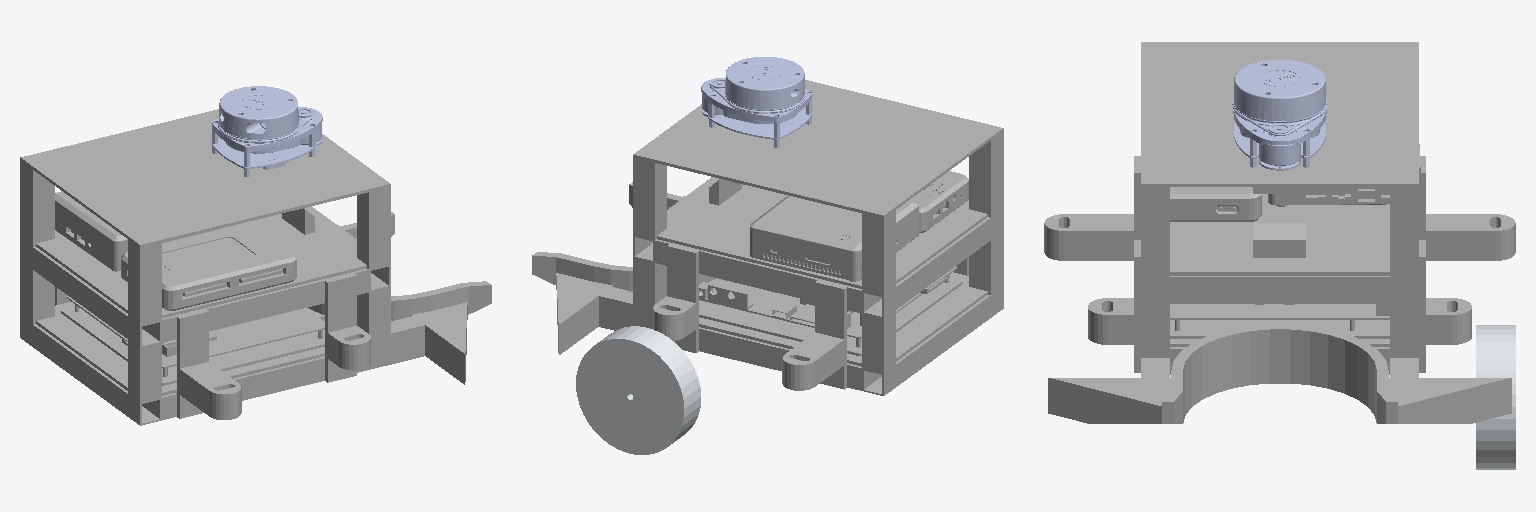
robot.urdf — lide:
<?xml version="1.0" encoding="utf-8"?>
<!-- This URDF was automatically created by SolidWorks to URDF Exporter! Originally created by [author] ([email redacted]) 
     Commit Version: 1.5.1-0-g916b5db  Build Version: 1.5.7152.31018
     For more information, please see http://wiki.ros.org/sw_urdf_exporter -->
<robot
  name="lide">
  <link
    name="base_link">
    <inertial>
      <origin
        xyz="-0.090533 0.0013857 0.048933"
        rpy="0 0 0" />
      <mass
        value="3.0203" />
      <inertia
        ixx="0.0071977"
        ixy="-5.4748E-07"
        ixz="-7.3649E-06"
        iyy="0.005614"
        iyz="-3.0088E-07"
        izz="0.012102" />
    </inertial>
    <visual>
      <origin
        xyz="0 0 0"
        rpy="0 0 0" />
      <geometry>
        <mesh
          filename="package://lide/meshes/base_link.STL" />
      </geometry>
      <material
        name="">
        <color
          rgba="0.75294 0.75294 0.75294 1" />
      </material>
    </visual>
    <collision>
      <origin
        xyz="0 0 0"
        rpy="0 0 0" />
      <geometry>
        <mesh
          filename="package://lide/meshes/base_link.STL" />
      </geometry>
    </collision>
  </link>
  <link
    name="LFS">
    <inertial>
      <origin
        xyz="0.04556 0.0083094 0.0029762"
        rpy="0 0 0" />
      <mass
        value="0.072793" />
      <inertia
        ixx="2.2093E-05"
        ixy="-1.6485E-08"
        ixz="-1.5645E-07"
        iyy="1.6263E-05"
        iyz="2.9641E-09"
        izz="1.8084E-05" />
    </inertial>
    <visual>
      <origin
        xyz="0 0 0"
        rpy="0 0 0" />
      <geometry>
        <mesh
          filename="package://lide/meshes/LFS.STL" />
      </geometry>
      <material
        name="">
        <color
          rgba="0.75294 0.75294 0.75294 1" />
      </material>
    </visual>
    <collision>
      <origin
        xyz="0 0 0"
        rpy="0 0 0" />
      <geometry>
        <mesh
          filename="package://lide/meshes/LFS.STL" />
      </geometry>
    </collision>
  </link>
  <joint
    name="LFS"
    type="fixed">
    <origin
      xyz="-0.021044 0.084404 -0.036503"
      rpy="1.5708 0 1.5708" />
    <parent
      link="base_link" />
    <child
      link="LFS" />
    <axis
      xyz="0 0 0" />
  </joint>
  <link
    name="LFW">
    <inertial>
      <origin
        xyz="0.015 0 1.7347E-18"
        rpy="0 0 0" />
      <mass
        value="0.76708" />
      <inertia
        ixx="0.0011643"
        ixy="4.4576E-22"
        ixz="-1.8299E-20"
        iyy="0.00063966"
        iyz="-1.3553E-20"
        izz="0.00063966" />
    </inertial>
    <visual>
      <origin
        xyz="0 0 0"
        rpy="0 0 0" />
      <geometry>
        <mesh
          filename="package://lide/meshes/LFW.STL" />
      </geometry>
      <material
        name="">
        <color
          rgba="0.89804 0.91765 0.92941 1" />
      </material>
    </visual>
    <collision>
      <origin
        xyz="0 0 0"
        rpy="0 1.5708 0" />
      <geometry>
        <cylinder length="0.03" radius="0.055"/>
      </geometry>
    </collision>
  </link>
  <joint
    name="LFW"
    type="continuous">
    <origin
      xyz="0.063346 -0.006798 0.015044"
      rpy="-1.6264 0 0" />
    <parent
      link="LFS" />
    <child
      link="LFW" />
    <axis
      xyz="1 0 0" />
    <limit
      effort="3.1"
      velocity="7" />
  </joint>
  <link
    name="RFS">
    <inertial>
      <origin
        xyz="-0.019183 -0.0090093 0.052006"
        rpy="0 0 0" />
      <mass
        value="0.072793" />
      <inertia
        ixx="2.2093E-05"
        ixy="-1.6485E-08"
        ixz="1.5645E-07"
        iyy="1.6263E-05"
        iyz="-2.9641E-09"
        izz="1.8084E-05" />
    </inertial>
    <visual>
      <origin
        xyz="0 0 0"
        rpy="0 0 0" />
      <geometry>
        <mesh
          filename="package://lide/meshes/RFS.STL" />
      </geometry>
      <material
        name="">
        <color
          rgba="0.75294 0.75294 0.75294 1" />
      </material>
    </visual>
    <collision>
      <origin
        xyz="0 0 0"
        rpy="0 0 0" />
      <geometry>
        <mesh
          filename="package://lide/meshes/RFS.STL" />
      </geometry>
    </collision>
  </link>
  <joint
    name="RFS"
    type="fixed">
    <origin
      xyz="-0.070073 -0.11078 -0.019216"
      rpy="1.5708 0 1.5708" />
    <parent
      link="base_link" />
    <child
      link="RFS" />
    <axis
      xyz="0 0 0" />
  </joint>
  <link
    name="RFW">
    <inertial>
      <origin
        xyz="-0.015 0 0"
        rpy="0 0 0" />
      <mass
        value="0.76708" />
      <inertia
        ixx="0.0011643"
        ixy="-1.2315E-36"
        ixz="8.6535E-37"
        iyy="0.00063966"
        iyz="8.0046E-39"
        izz="0.00063966" />
    </inertial>
    <visual>
      <origin
        xyz="0 0 0"
        rpy="0 0 0" />
      <geometry>
        <mesh
          filename="package://lide/meshes/RFW.STL" />
      </geometry>
      <material
        name="">
        <color
          rgba="0.89804 0.91765 0.92941 1" />
      </material>
    </visual>
    <collision>
      <origin
        xyz="0 0 0"
        rpy="0 1.5708 0" />
      <geometry>
        <cylinder length="0.03" radius="0.055"/>
      </geometry>
    </collision>
  </link>
  <joint
    name="RFW"
    type="continuous">
    <origin
      xyz="-0.036969 -0.024084 0.064073"
      rpy="0 0 0" />
    <parent
      link="RFS" />
    <child
      link="RFW" />
    <axis
      xyz="1 0 0" />
    <limit
      effort="3.1"
      velocity="7" />
  </joint>
  <link
    name="LBS">
    <inertial>
      <origin
        xyz="-4.7988E-10 -0.023473 -1.1682E-09"
        rpy="0 0 0" />
      <mass
        value="0.083536" />
      <inertia
        ixx="7.7297E-05"
        ixy="-8.6048E-13"
        ixz="1.4059E-13"
        iyy="5.1382E-05"
        iyz="-5.0656E-12"
        izz="7.7395E-05" />
    </inertial>
    <visual>
      <origin
        xyz="0 0 0"
        rpy="0 0 0" />
      <geometry>
        <mesh
          filename="package://lide/meshes/LBS.STL" />
      </geometry>
      <material
        name="">
        <color
          rgba="0.89804 0.91765 0.92941 1" />
      </material>
    </visual>
    <collision>
      <origin
        xyz="0 0 0"
        rpy="0 0 0" />
      <geometry>
        <mesh
          filename="package://lide/meshes/LBS.STL" />
      </geometry>
    </collision>
  </link>
  <joint
    name="LBS"
    type="fixed">
    <origin
      xyz="-0.169 0.16275 -0.012562"
      rpy="1.5708 0 1.5708" />
    <parent
      link="base_link" />
    <child
      link="LBS" />
    <axis
      xyz="0 0 0" />
  </joint>
  <link
    name="LBW">
    <inertial>
      <origin
        xyz="0 -1.2212E-15 0"
        rpy="0 0 0" />
      <mass
        value="0.2991" />
      <inertia
        ixx="0.00010713"
        ixy="-7.7155E-22"
        ixz="-6.5618E-22"
        iyy="0.00010983"
        iyz="-8.6323E-20"
        izz="0.00010713" />
    </inertial>
    <visual>
      <origin
        xyz="0 0 0"
        rpy="0 0 0" />
      <geometry>
        <mesh
          filename="package://lide/meshes/LBW.STL" />
      </geometry>
      <material
        name="">
        <color
          rgba="0.89804 0.91765 0.92941 1" />
      </material>
    </visual>
    <collision>
      <origin
        xyz="0 0 0"
        rpy="0 0 0" />
      <geometry>
        <mesh
          filename="package://lide/meshes/LBW.STL" />
      </geometry>
    </collision>
  </link>
  <joint
    name="LBW"
    type="continuous">
    <origin
      xyz="0 -0.055738 0"
      rpy="3.1416 0 1.5708" />
    <parent
      link="LBS" />
    <child
      link="LBW" />
    <axis
      xyz="0 1 0" />
  </joint>
  <link
    name="RBS">
    <inertial>
      <origin
        xyz="-4.7988E-10 -0.023473 -1.1682E-09"
        rpy="0 0 0" />
      <mass
        value="0.083536" />
      <inertia
        ixx="7.7297E-05"
        ixy="-8.6048E-13"
        ixz="1.4059E-13"
        iyy="5.1382E-05"
        iyz="-5.0656E-12"
        izz="7.7395E-05" />
    </inertial>
    <visual>
      <origin
        xyz="0 0 0"
        rpy="0 0 0" />
      <geometry>
        <mesh
          filename="package://lide/meshes/RBS.STL" />
      </geometry>
      <material
        name="">
        <color
          rgba="0.89804 0.91765 0.92941 1" />
      </material>
    </visual>
    <collision>
      <origin
        xyz="0 0 0"
        rpy="0 0 0" />
      <geometry>
        <mesh
          filename="package://lide/meshes/RBS.STL" />
      </geometry>
    </collision>
  </link>
  <joint
    name="RBS"
    type="fixed">
    <origin
      xyz="-0.169 -0.16275 -0.012562"
      rpy="1.5708 0 1.5708" />
    <parent
      link="base_link" />
    <child
      link="RBS" />
    <axis
      xyz="0 0 0" />
  </joint>
  <link
    name="RBW">
    <inertial>
      <origin
        xyz="0 -5.5511E-16 0"
        rpy="0 0 0" />
      <mass
        value="0.2991" />
      <inertia
        ixx="0.00010713"
        ixy="2.9572E-22"
        ixz="-7.8377E-22"
        iyy="0.00010983"
        iyz="-8.634E-20"
        izz="0.00010713" />
    </inertial>
    <visual>
      <origin
        xyz="0 0 0"
        rpy="0 0 0" />
      <geometry>
        <mesh
          filename="package://lide/meshes/RBW.STL" />
      </geometry>
      <material
        name="">
        <color
          rgba="0.89804 0.91765 0.92941 1" />
      </material>
    </visual>
    <collision>
      <origin
        xyz="0 0 0"
        rpy="0 0 0" />
      <geometry>
        <mesh
          filename="package://lide/meshes/RBW.STL" />
      </geometry>
    </collision>
  </link>
  <joint
    name="RBW"
    type="continuous">
    <origin
      xyz="0 -0.055738 0"
      rpy="0 0 -1.5708" />
    <parent
      link="RBS" />
    <child
      link="RBW" />
    <axis
      xyz="0 1 0" />
  </joint>
  <link
    name="fcam">
    <inertial>
      <origin
        xyz="-0.011554 -2.6443E-06 0.0012903"
        rpy="0 0 0" />
      <mass
        value="0.043612" />
      <inertia
        ixx="2.3571E-05"
        ixy="-1.0184E-09"
        ixz="2.1759E-08"
        iyy="4.2948E-06"
        iyz="-8.8502E-10"
        izz="2.2106E-05" />
    </inertial>
    <visual>
      <origin
        xyz="0 0 0"
        rpy="0 0 0" />
      <geometry>
        <mesh
          filename="package://lide/meshes/fcam.STL" />
      </geometry>
      <material
        name="">
        <color
          rgba="0.79216 0.81961 0.93333 1" />
      </material>
    </visual>
    <collision>
      <origin
        xyz="0 0 0"
        rpy="0 0 0" />
      <geometry>
        <mesh
          filename="package://lide/meshes/fcam.STL" />
      </geometry>
    </collision>
  </link>
  <joint
    name="fcam"
    type="fixed">
    <origin
      xyz="0.029118 0 0.12982"
      rpy="0 0.2618 0" />
    <parent
      link="base_link" />
    <child
      link="fcam" />
    <axis
      xyz="0 0 0" />
  </joint>
  <link
    name="bcam">
    <inertial>
      <origin
        xyz="-0.020103 -2.6435E-06 -0.0072587"
        rpy="0 0 0" />
      <mass
        value="0.043612" />
      <inertia
        ixx="2.3571E-05"
        ixy="-1.0183E-09"
        ixz="2.1758E-08"
        iyy="4.2948E-06"
        iyz="-8.8548E-10"
        izz="2.2106E-05" />
    </inertial>
    <visual>
      <origin
        xyz="0 0 0"
        rpy="0 0 0" />
      <geometry>
        <mesh
          filename="package://lide/meshes/bcam.STL" />
      </geometry>
      <material
        name="">
        <color
          rgba="0.79216 0.81961 0.93333 1" />
      </material>
    </visual>
    <collision>
      <origin
        xyz="0 0 0"
        rpy="0 0 0" />
      <geometry>
        <mesh
          filename="package://lide/meshes/bcam.STL" />
      </geometry>
    </collision>
  </link>
  <joint
    name="bcam"
    type="fixed">
    <origin
      xyz="0.033 0 0.091232"
      rpy="0 0.7854 0" />
    <parent
      link="base_link" />
    <child
      link="bcam" />
    <axis
      xyz="0 0 0" />
  </joint>
  <link
    name="Lidar">
    <inertial>
      <origin
        xyz="0.013523 0.00046196 -0.028765"
        rpy="0 0 0" />
      <mass
        value="0.073085" />
      <inertia
        ixx="1.9581E-05"
        ixy="-1.0393E-07"
        ixz="-4.2839E-07"
        iyy="2.4125E-05"
        iyz="9.4271E-09"
        izz="4.1418E-05" />
    </inertial>
    <visual>
      <origin
        xyz="0 0 0"
        rpy="0 0 0" />
      <geometry>
        <mesh
          filename="package://lide/meshes/Lidar.STL" />
      </geometry>
      <material
        name="">
        <color
          rgba="0.79216 0.81961 0.93333 1" />
      </material>
    </visual>
    <collision>
      <origin
        xyz="0 0 0"
        rpy="0 0 0" />
      <geometry>
        <mesh
          filename="package://lide/meshes/Lidar.STL" />
      </geometry>
    </collision>
  </link>
  <joint
    name="Lidar"
    type="fixed">
    <origin
      xyz="-0.041576 -0.00099405 0.2065"
      rpy="0 0 0" />
    <parent
      link="base_link" />
    <child
      link="Lidar" />
    <axis
      xyz="0 0 0" />
  </joint>
  <link
    name="imu_link">
    <inertial>
      <origin
        xyz="0 0 0"
        rpy="0 0 0" />
      <mass
        value="0" />
      <inertia
        ixx="0"
        ixy="0"
        ixz="0"
        iyy="0"
        iyz="0"
        izz="0" />
    </inertial>
    <visual>
      <origin
        xyz="0 0 0"
        rpy="0 0 0" />
      <geometry>
        <mesh
          filename="package://lide/meshes/imu_link.STL" />
      </geometry>
      <material
        name="">
        <color
          rgba="1 1 1 1" />
      </material>
    </visual>
    <collision>
      <origin
        xyz="0 0 0"
        rpy="0 0 0" />
      <geometry>
        <mesh
          filename="package://lide/meshes/imu_link.STL" />
      </geometry>
    </collision>
  </link>
  <joint
    name="imu_link"
    type="fixed">
    <origin
      xyz="-0.021699 0 0.155"
      rpy="0 0 0" />
    <parent
      link="base_link" />
    <child
      link="imu_link" />
    <axis
      xyz="0 0 0" />
  </joint>
</robot>

--- What the picture shows (computed from the rendered views, not written in the file) ---
The picture shows the robot from 3 angles, left to right: view 1: azimuth 30°, elevation 25°; view 2: azimuth 150°, elevation 25°; view 3: azimuth 270°, elevation 25°; orthographic projection.
Model lide with 13 links and 12 joints (4 continuous, 8 fixed), rooted at base_link, posed every joint at zero.
Visible links, largest first — view 1: base_link, Lidar; view 2: base_link, LFW, Lidar; view 3: base_link, Lidar, LFW.
Link boxes in pixels (<box>): base_link: <box>20,109,491,425</box>; Lidar: <box>212,86,322,176</box>; base_link: <box>532,80,1003,395</box>; LFW: <box>576,326,700,454</box>; Lidar: <box>701,57,811,147</box>; base_link: <box>1044,42,1515,423</box>; Lidar: <box>1232,60,1327,170</box>; LFW: <box>1476,325,1515,469</box>.
Size in the robot's own frame: 0.365 by 0.3555 by 0.3047 metres.
4 mesh visuals loaded from 13 distinct referenced files (4 binary STL); not drawn: 9 (reference not matched to a file when rendering).